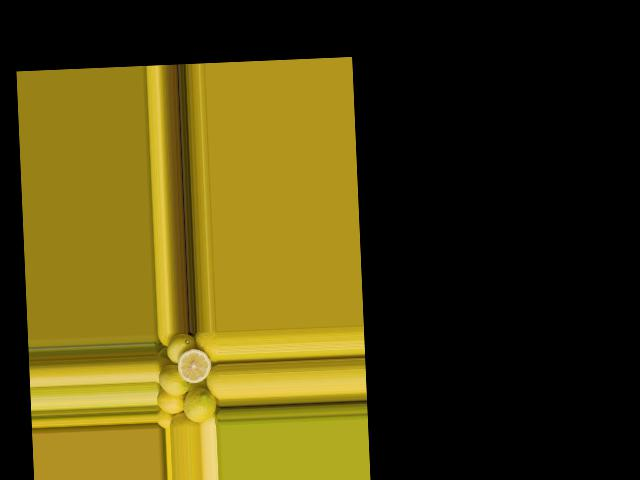lemon: (167, 334, 194, 361)
